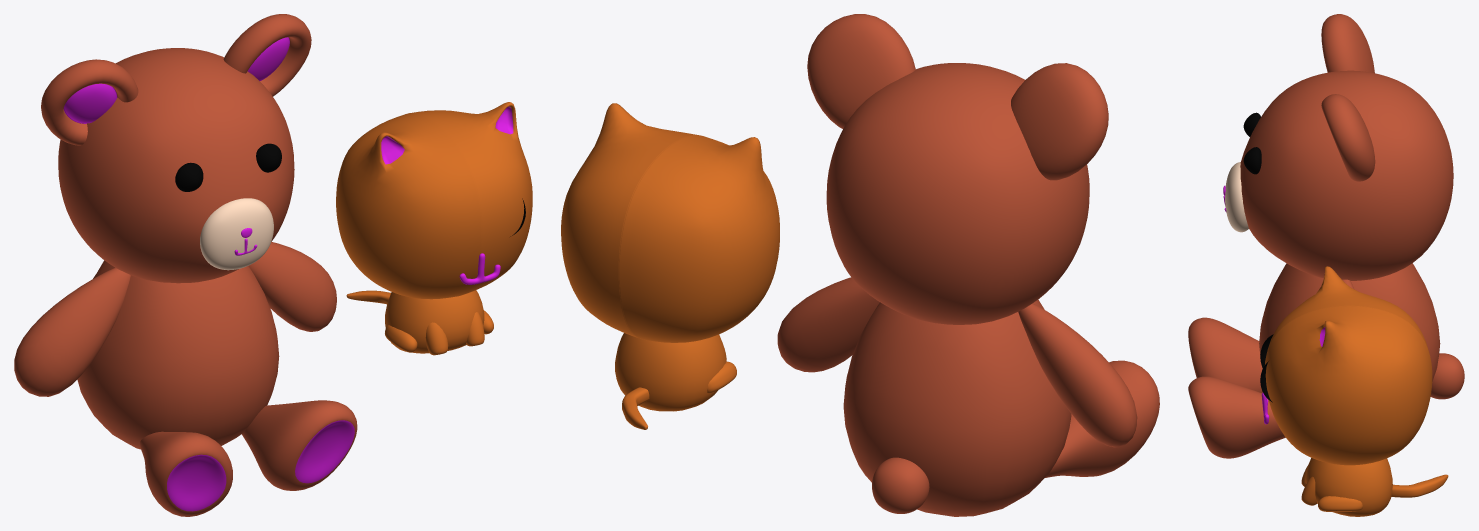
The model's file is Ours.glb.
3 renders of one model, left to right at view 1: azimuth 30°, elevation 25°; view 2: azimuth 150°, elevation 25°; view 3: azimuth 270°, elevation 25°, orthographic. The views are drawn at different scales.
Parts seen in each view (by area): view 1: Tête, Cube.002, Corps, Jambes, Bras, Oreilles, Museau, Cube.003, Yeux, Cube.006, Cube.004; view 2: Tête, Cube.002, Corps, Oreilles, Bras, Cube.003, Jambes, Queue, Plan; view 3: Tête, Cube.002, Jambes, Corps, Oreilles, Cube.003, Queue, Museau, Plan, Yeux, Cube.004, Cube.006 (+1 smaller).
Part boxes in pixels (left/top/right/bottom): Tête: left=58, top=48, right=294, bottom=283; Cube.002: left=336, top=102, right=532, bottom=299; Corps: left=77, top=260, right=279, bottom=449; Jambes: left=139, top=400, right=357, bottom=516; Bras: left=14, top=242, right=336, bottom=396; Oreilles: left=41, top=14, right=311, bottom=145; Museau: left=200, top=198, right=273, bottom=270; Cube.003: left=385, top=290, right=484, bottom=353; Yeux: left=175, top=143, right=281, bottom=191; Cube.006: left=425, top=312, right=484, bottom=355; Cube.004: left=385, top=310, right=493, bottom=352; Tête: left=826, top=63, right=1089, bottom=324; Cube.002: left=561, top=103, right=779, bottom=342; Corps: left=843, top=299, right=1071, bottom=516; Oreilles: left=807, top=14, right=1108, bottom=180; Bras: left=777, top=277, right=1137, bottom=447; Cube.003: left=615, top=333, right=726, bottom=411; Jambes: left=1045, top=360, right=1159, bottom=477; Queue: left=872, top=457, right=929, bottom=513; Plan: left=622, top=387, right=649, bottom=429; Tête: left=1240, top=70, right=1453, bottom=280; Cube.002: left=1265, top=266, right=1432, bottom=465; Jambes: left=1188, top=317, right=1285, bottom=458; Corps: left=1259, top=263, right=1440, bottom=381; Oreilles: left=1321, top=14, right=1375, bottom=181; Cube.003: left=1305, top=458, right=1392, bottom=516; Queue: left=1430, top=353, right=1464, bottom=399; Museau: left=1225, top=162, right=1248, bottom=232; Plan: left=1391, top=474, right=1448, bottom=497; Yeux: left=1243, top=112, right=1261, bottom=174; Cube.004: left=1318, top=496, right=1362, bottom=511; Cube.006: left=1301, top=465, right=1316, bottom=505.
Size of the model in its own units: 8.96 by 7.13 by 4.77.
